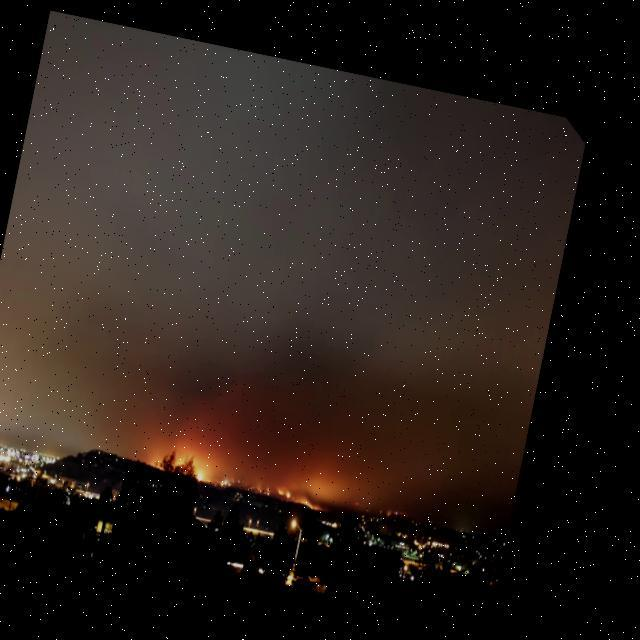Fire: (189, 433, 228, 466), (313, 478, 343, 494), (167, 446, 183, 462), (212, 452, 225, 470), (237, 462, 251, 477), (294, 470, 310, 482), (274, 470, 290, 480)
